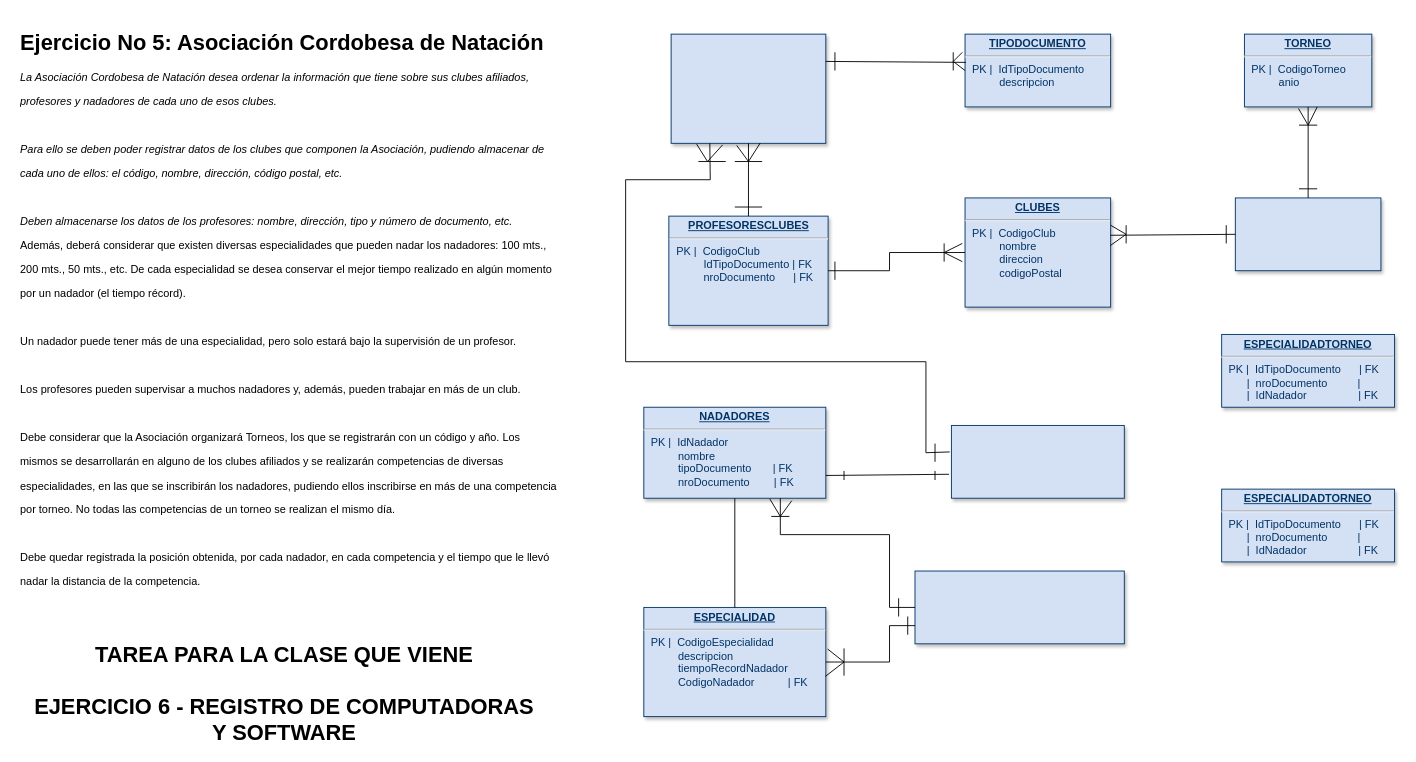
This 1416x762 diagram has some shape labels left out. The centre of each missing label's shape, as x and y in pixels:
ESPECIALIDADX NADADORES PK | IdNadador | FK | CodigoEspecialidad | FK: the point at 1020,608
PROFESORES PK | IdTipoDocumento | FK | nroDocumento nombre direccion: the point at 749,90
PROFESORESNADADORES PK | IdTipoDocumento | FK | nroDocumento | | IdNadador | FK: the point at 1038,463
TORNEOCLUBES PK | CodigoClub | FK | CodigoTorneo | FK: the point at 1308,235
